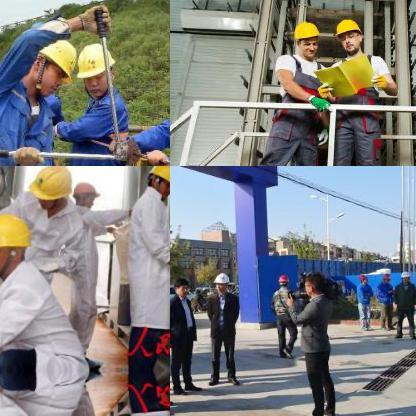Helmet: (29, 30, 85, 93), (26, 166, 77, 213), (74, 35, 108, 99), (0, 212, 31, 277), (290, 17, 323, 57), (331, 13, 365, 49), (70, 177, 98, 208), (144, 166, 169, 197), (213, 270, 227, 290), (400, 268, 410, 284), (277, 274, 289, 286), (358, 272, 366, 282), (382, 271, 390, 281)
